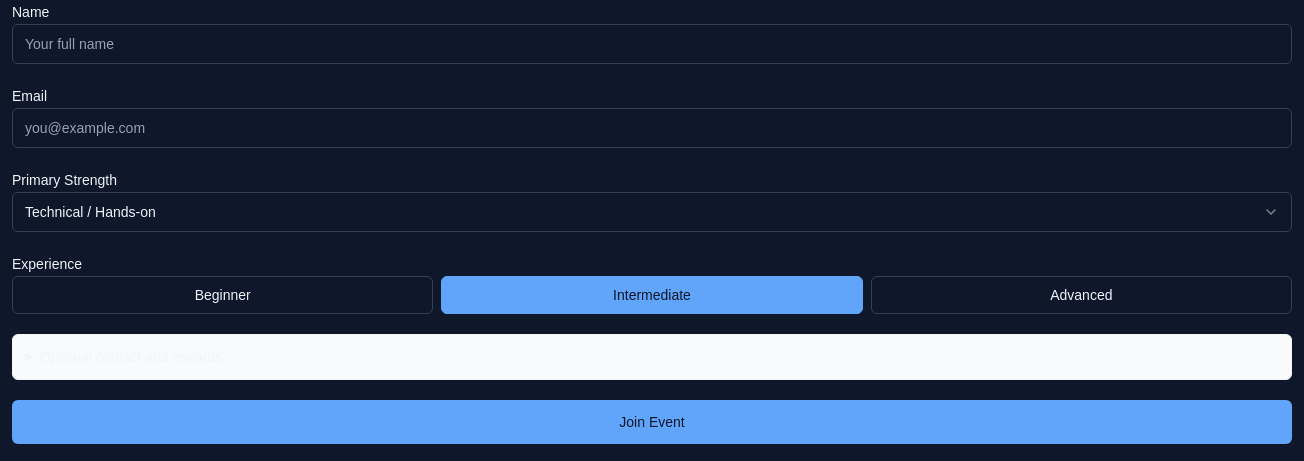
RegistrationForm › shows confirmation after successful submit
The image size is (1304, 461).
Type "Alice" into the field labelled "Name" at coordinates (652, 44), box [12, 24, 1292, 64]
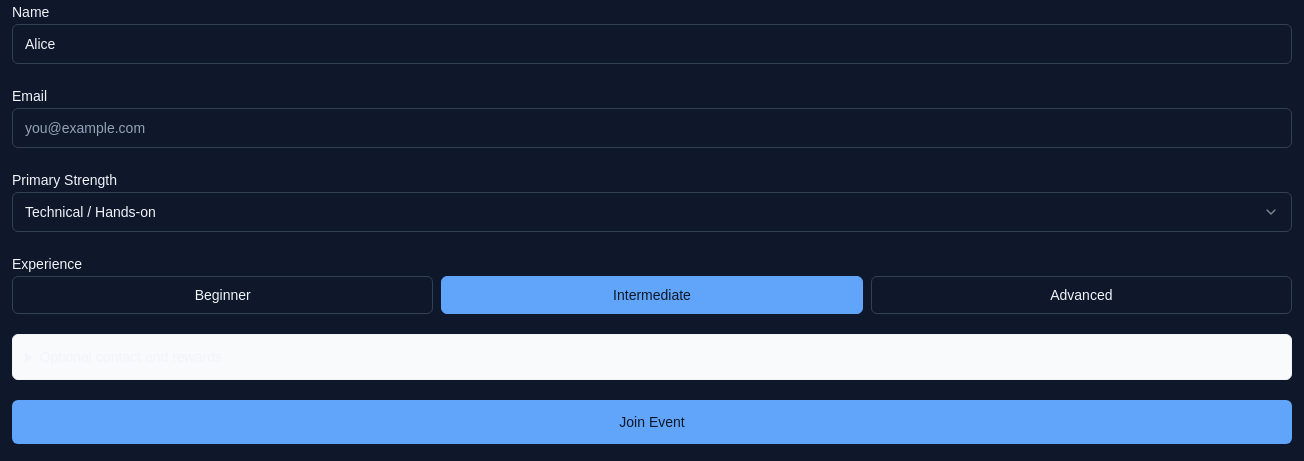
Type "alice@test.com" into the field labelled "Email" at coordinates (652, 128), box [12, 108, 1292, 148]
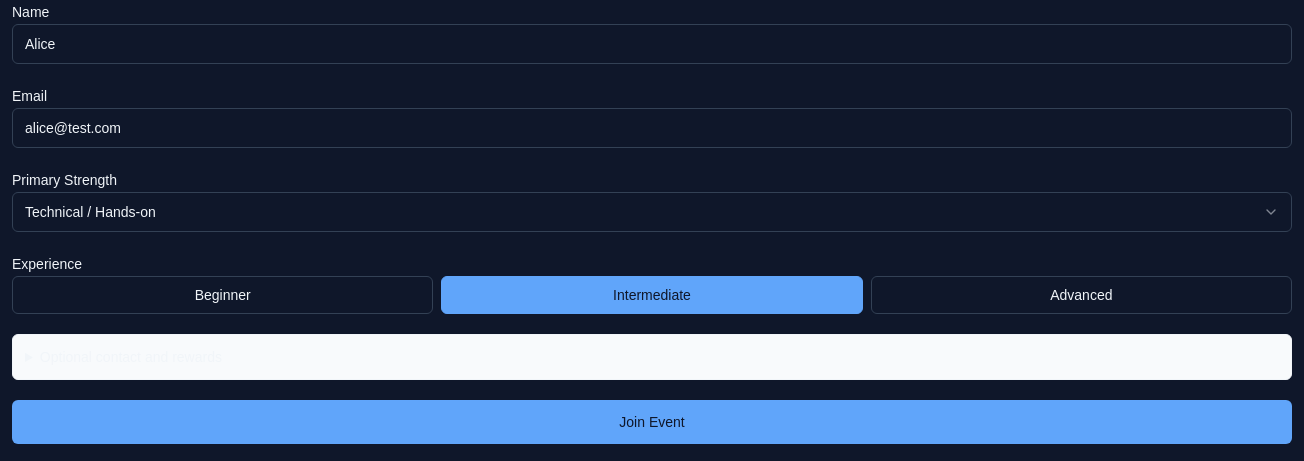
Click the button "Join Event" at coordinates (652, 422), box [12, 400, 1292, 444]
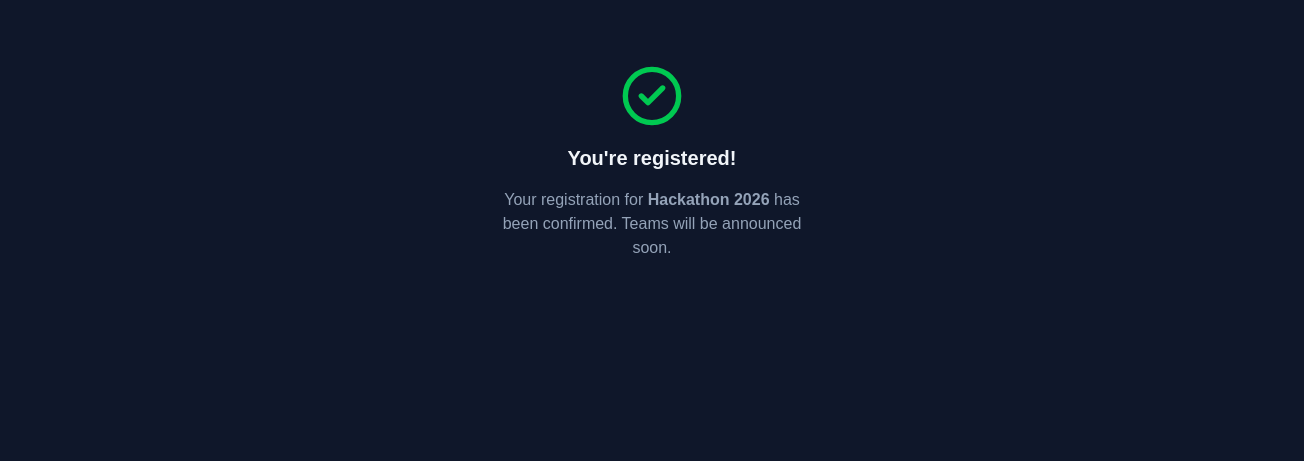
Expected: the heading "You're registered!" is shown, [568, 144, 736, 172]
